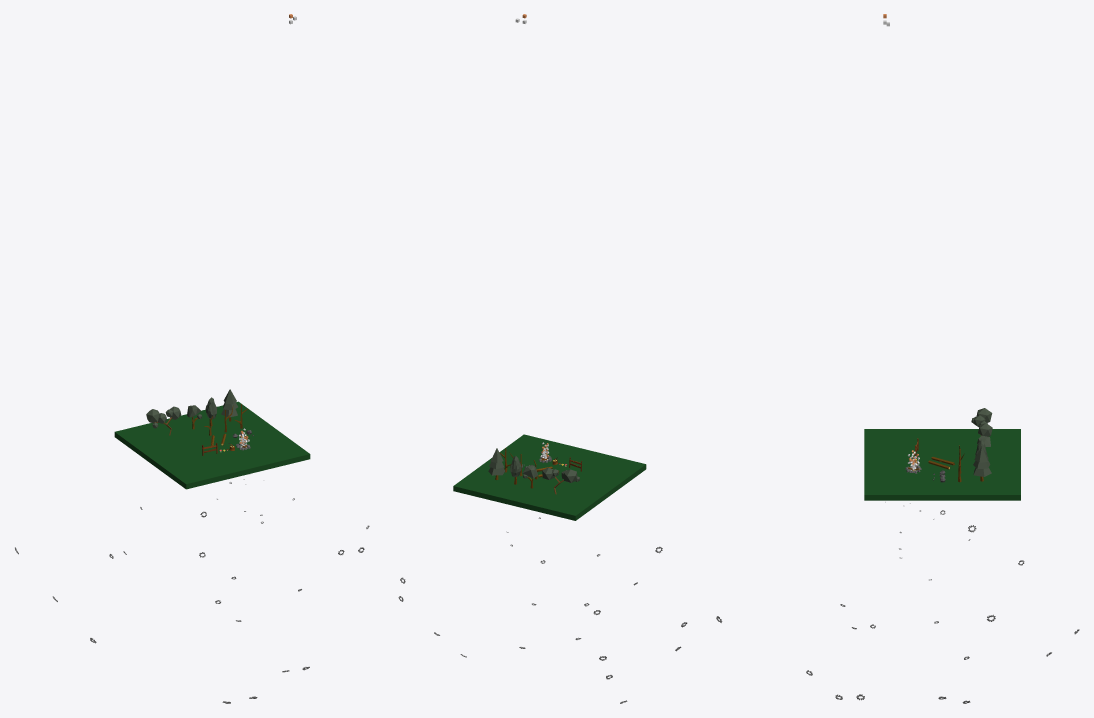
The model's file is work+3.fbx.
3 renders of one model, left to right at view 1: azimuth 30°, elevation 25°; view 2: azimuth 150°, elevation 25°; view 3: azimuth 270°, elevation 25°, orthographic. The views are drawn at different scales.
Parts seen in each view (by area): view 1: Grass; view 2: Grass; view 3: Grass.
Part boxes in pixels (x1,y1,x2,y2): Grass: (114, 401, 310, 489); Grass: (453, 434, 646, 520); Grass: (864, 429, 1020, 500).
Bounding box in the file's own units: 5195 × 10304 × 4688.
